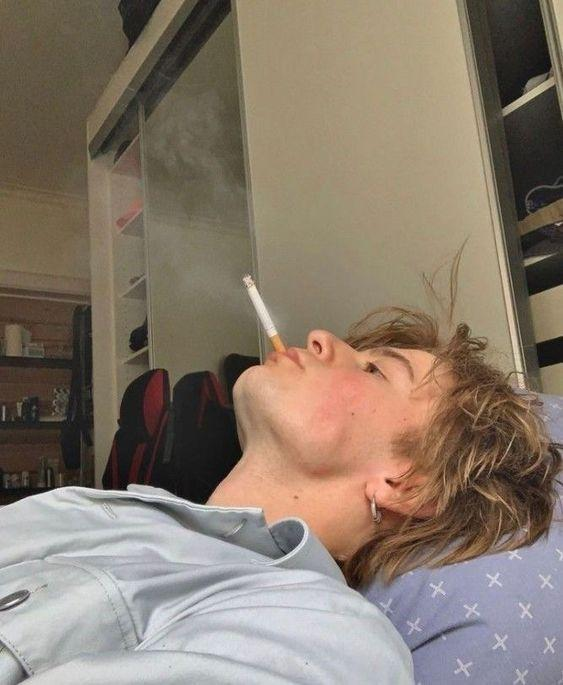cigarette: (242, 274, 286, 353)
